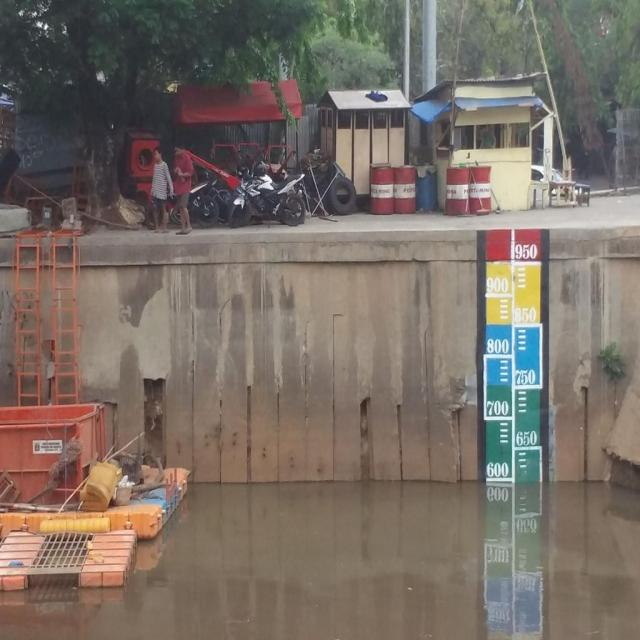ruler: (476, 211, 559, 502)
value: (513, 302, 540, 327), (484, 271, 510, 296), (484, 396, 511, 420), (512, 428, 541, 449), (512, 365, 538, 388), (485, 456, 511, 479), (485, 334, 511, 356), (515, 238, 539, 261)
